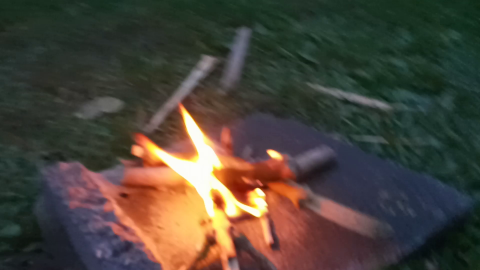fire: (132, 102, 234, 196)
